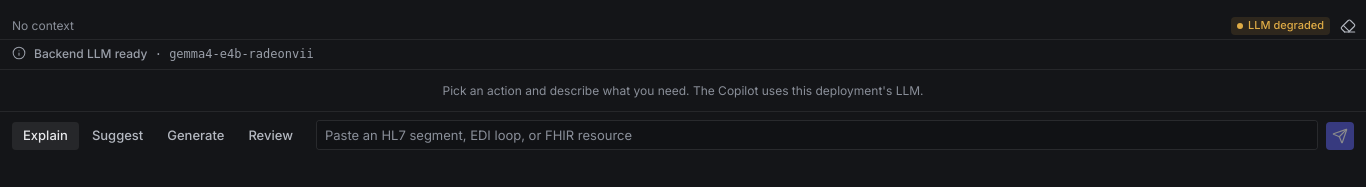
Test: CopilotPanel runs on the backend LLM › shows the degraded chip but only blocks the action whose feature is off
Expected: the text "LLM degraded" is shown, [1231,16,1330,34]
Type "route ADT admits to FHIR" into the text box at (817, 135), box [316,120,1318,150]
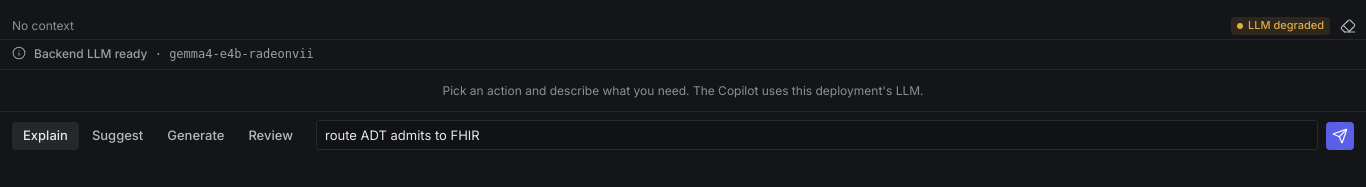
Now the button titled "Send (Enter)" is enabled, box [1326,122,1354,150]
// Switching to Generate (feature off) blocks with the backend's reason.
Click the button "Generate" at (196, 136), box [156,122,235,150]
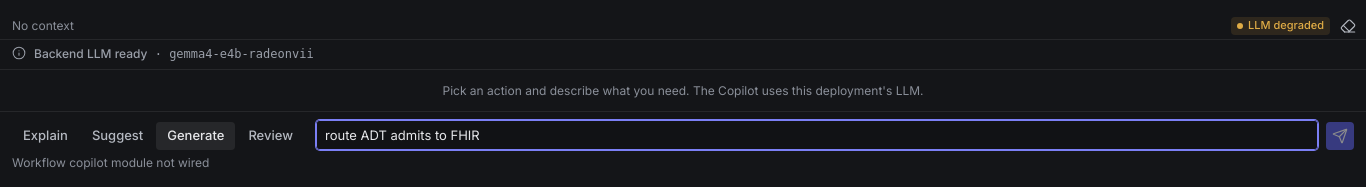
Now the button named "Workflow copilot module not wired" is disabled, box [1326,122,1354,150]
